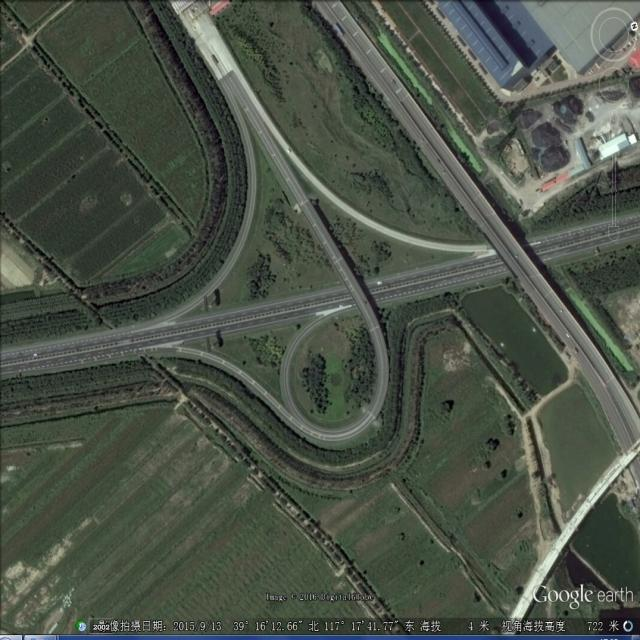overpass: (152, 95, 503, 447)
